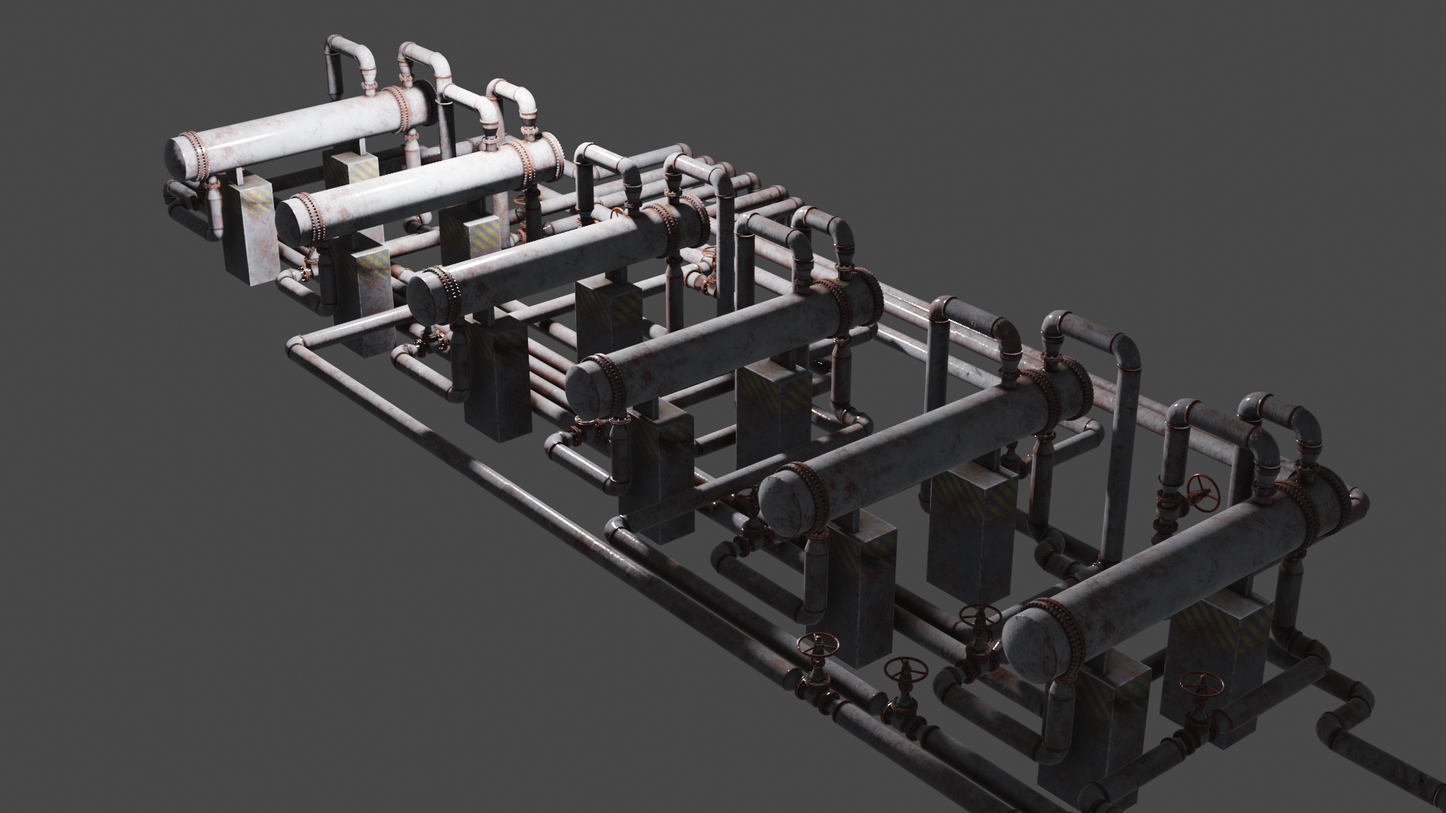HE_1: (998, 465, 1354, 688)
HE_2: (748, 351, 1094, 541)
HE_3: (561, 262, 889, 422)
HE_4: (402, 192, 713, 329)
HE_5: (274, 127, 564, 245)
HE_6: (162, 76, 440, 185)
